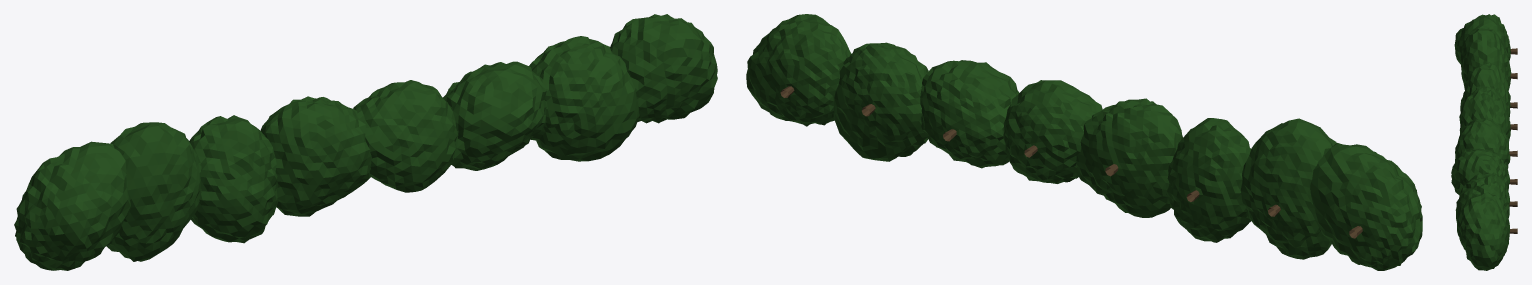
File: citrus_run8_d.obj
3 views of the same model, side by side, from view 1: azimuth 30°, elevation 25°; view 2: azimuth 150°, elevation 25°; view 3: azimuth 270°, elevation 25° (orthographic). The views are drawn at different scales.
Parts seen in each view (by area): view 1: canopy; view 2: canopy, trunk; view 3: canopy, trunk.
Boxes of the visible parts, <box> form: canopy: <box>14,14,717,270</box>; canopy: <box>746,14,1422,270</box>; trunk: <box>780,86,1362,238</box>; canopy: <box>1451,14,1511,270</box>; trunk: <box>1509,48,1517,233</box>.
Bounding box in the file's own units: 24.77 × 4.84 × 3.27.
